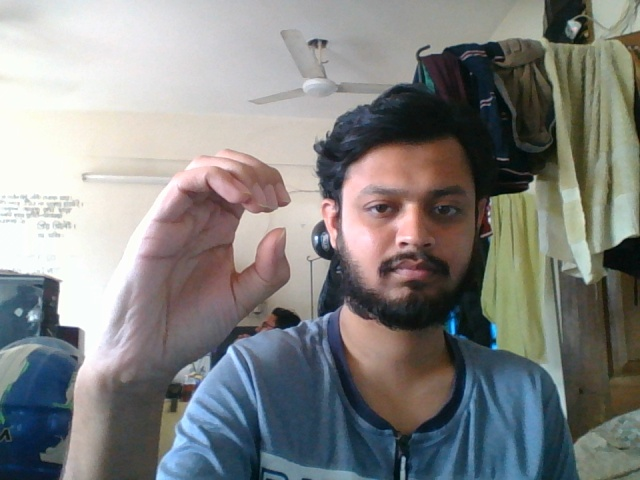ka: (92, 146, 303, 389)
